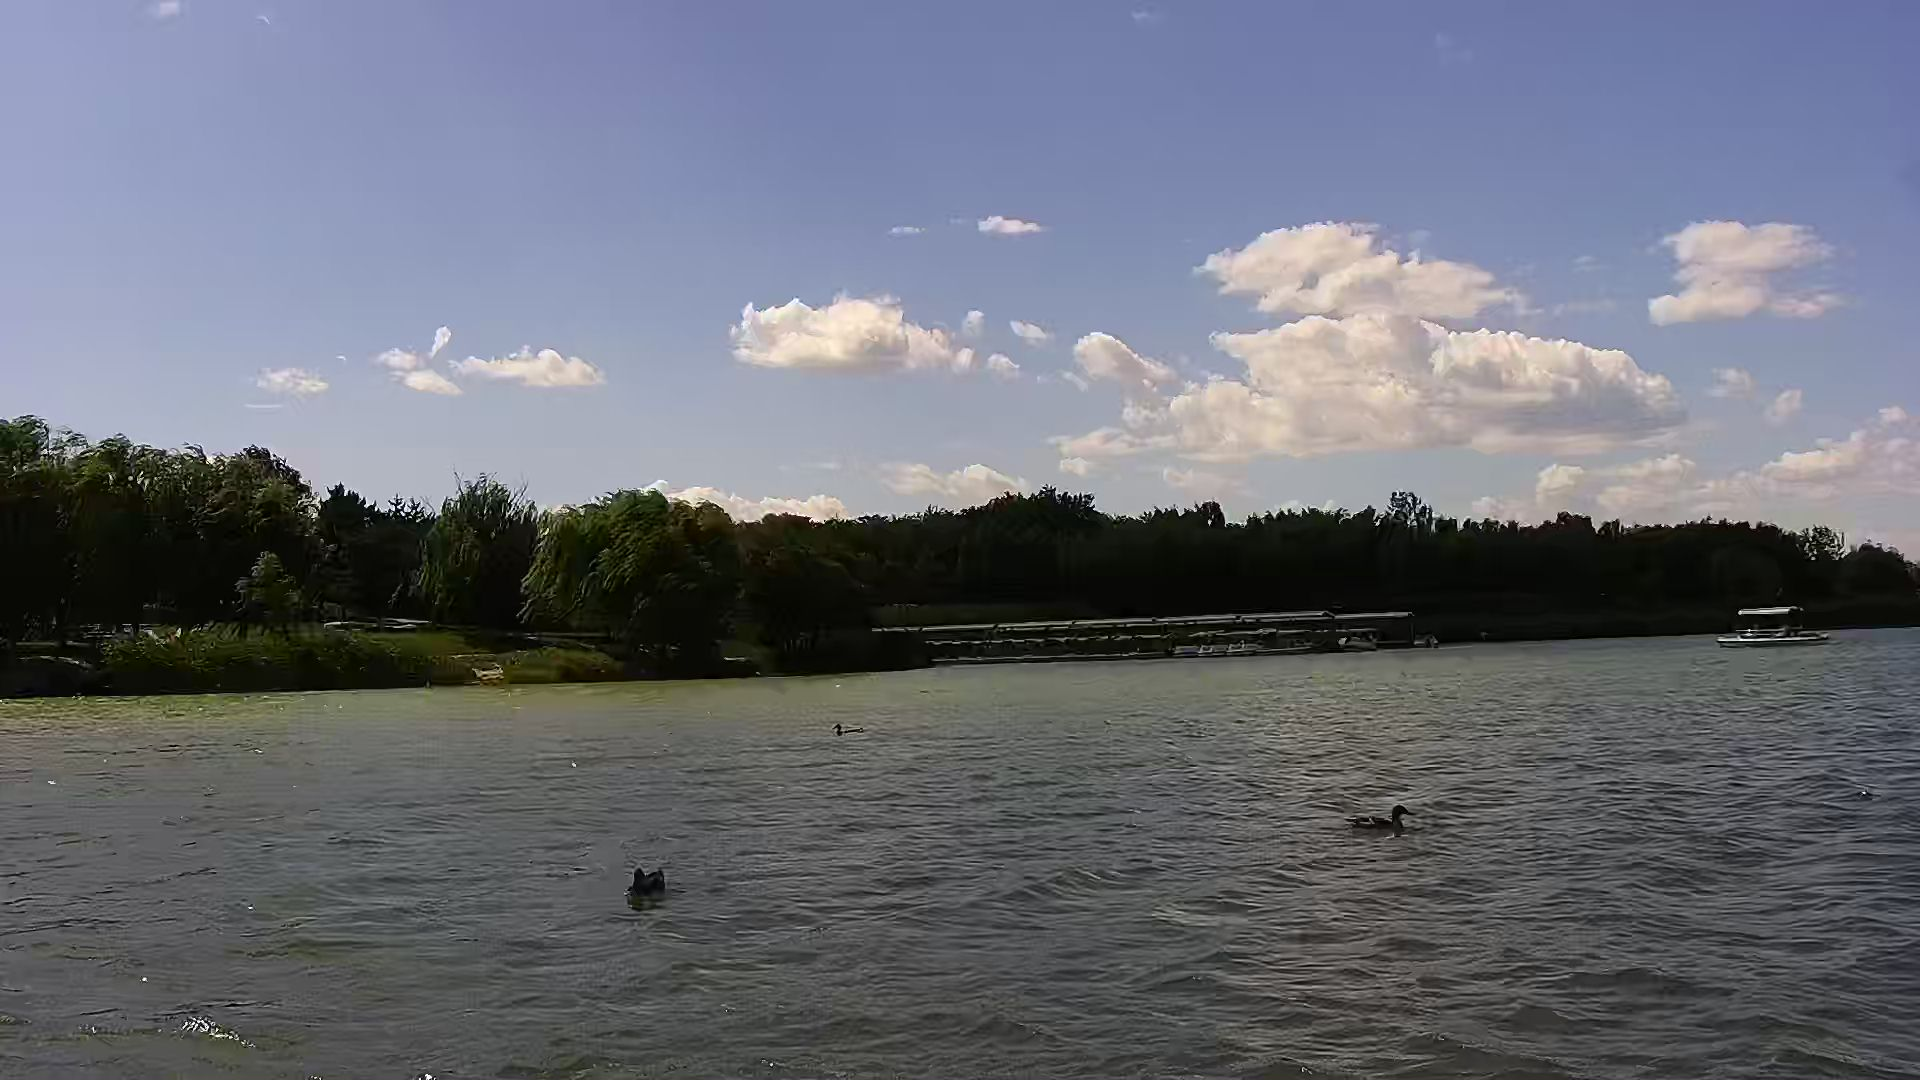animal: (625, 862, 667, 911), (1354, 804, 1406, 839), (829, 717, 866, 745)
boat: (1720, 597, 1840, 650)
harbor: (928, 620, 1391, 665)
rock: (473, 669, 502, 680)
